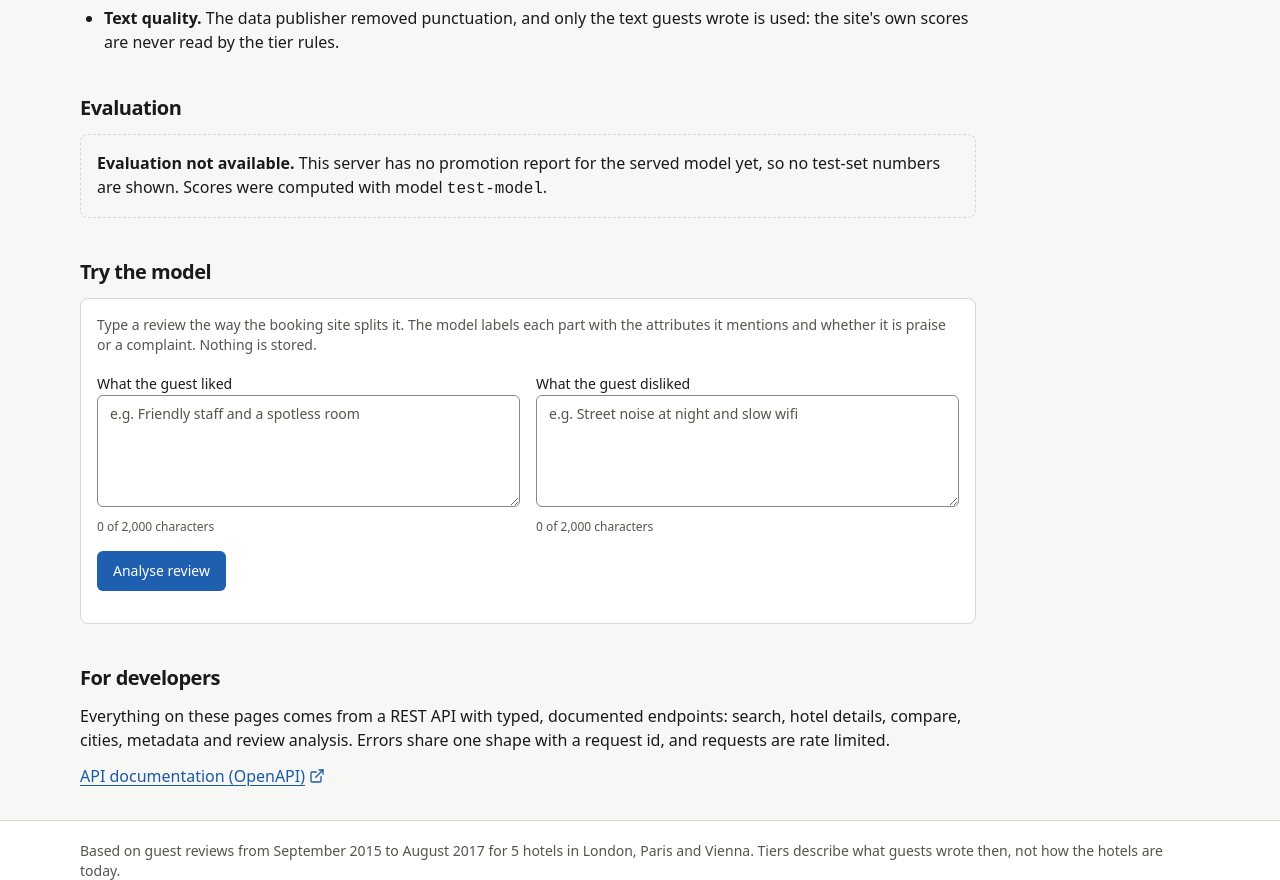
Test: Try the model › shows the wait time on 429
The image size is (1280, 880).
(page scrolled)
Type "Nice staff" into the text box labelled "What the guest liked" at point(308, 450), box [97,394,520,506]
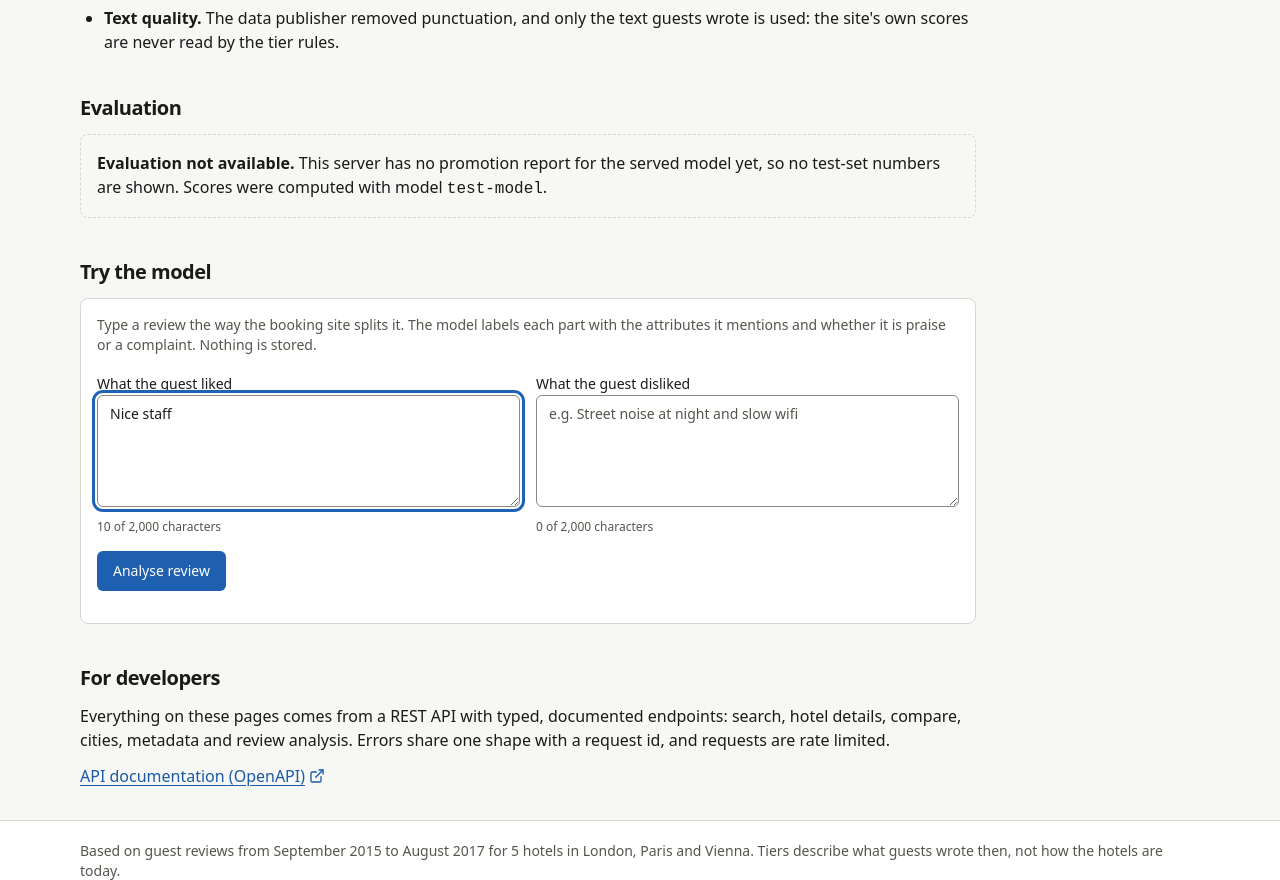
Click the button "Analyse review" at point(161, 570), box [97,550,226,590]
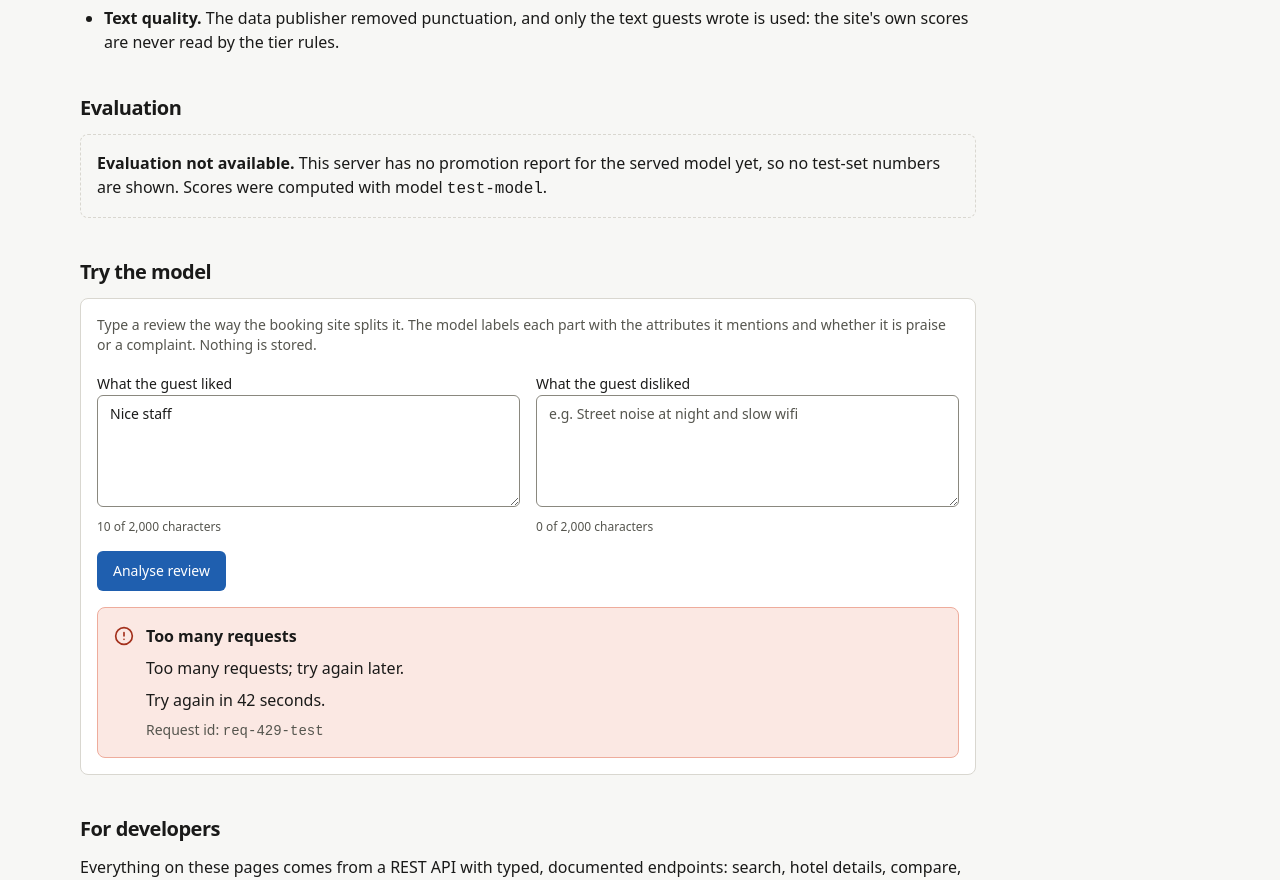
Expected: the message shows "Too many requests", [146,624,297,646]
Expected: the message shows "Try again in 42 seconds.", [97,606,959,758]
